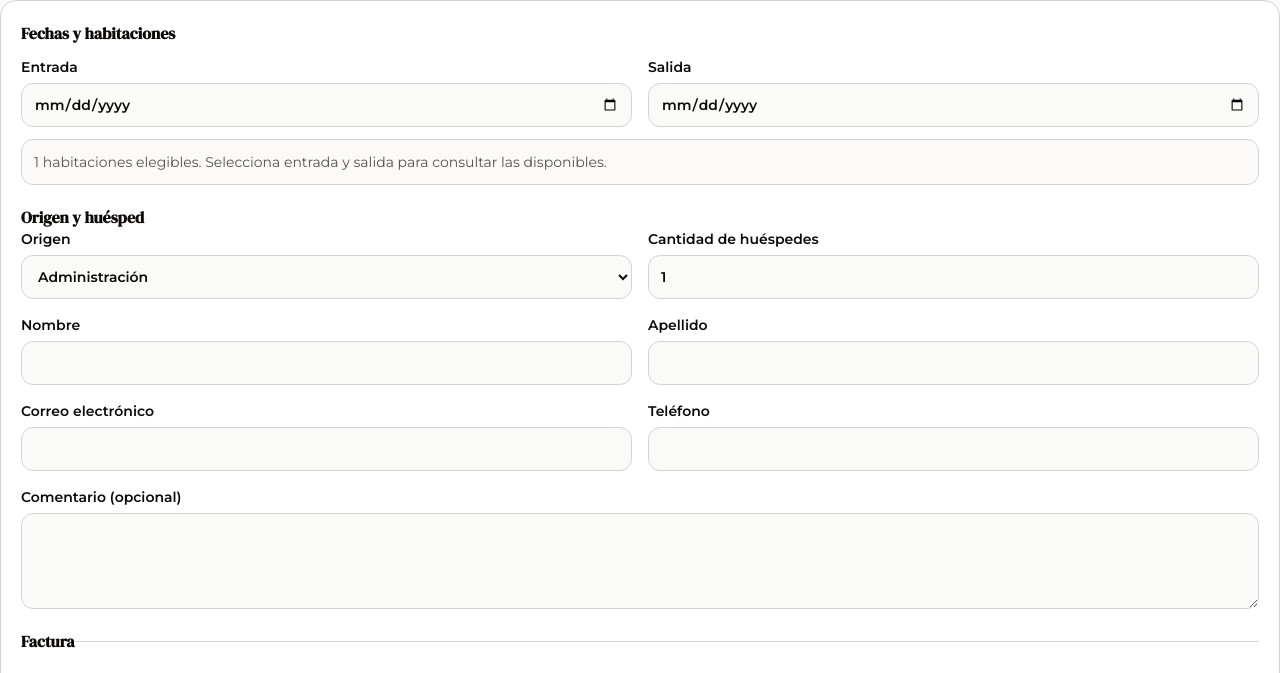
Test: nightly value for an external channel (task 7.1) › recalculates the displayed total from the hand-set value
The width and height of the screenshot is (1280, 673).
Type "2033-02-10" into the date field labelled "Entrada" at coordinates (326, 105), box 21,83 -> 632,127
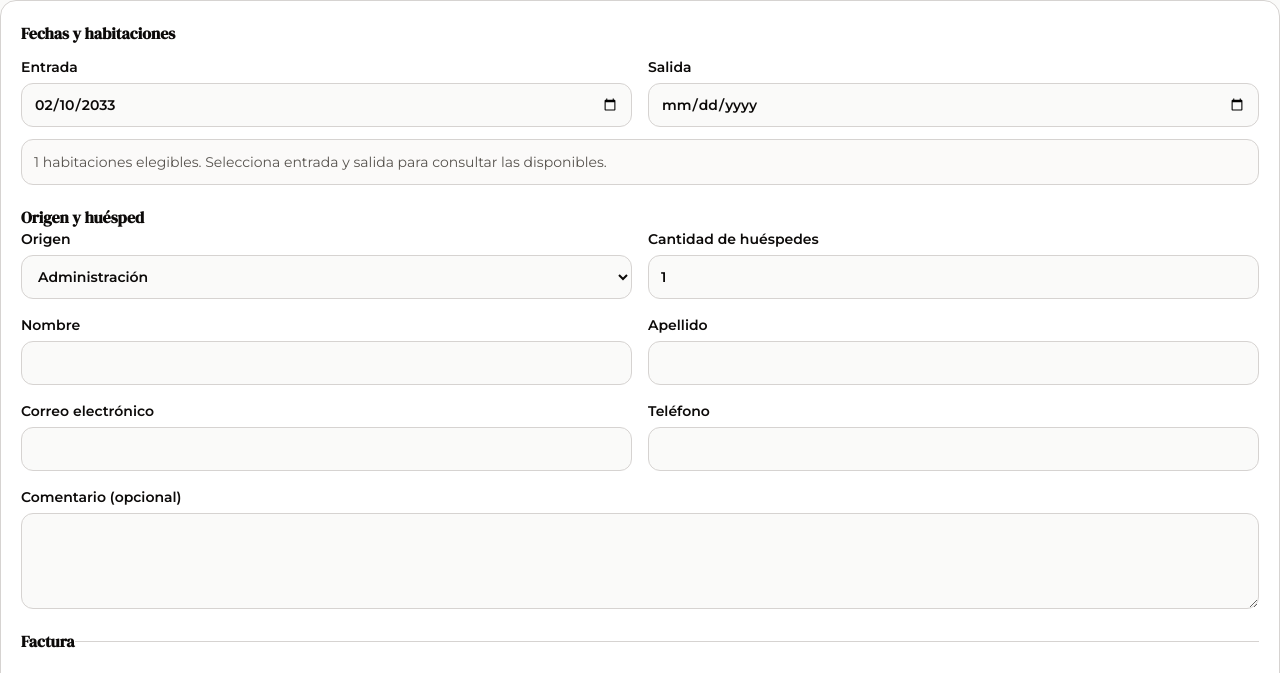
Type "2033-02-12" into the date field labelled "Salida" at coordinates (954, 105), box 648,83 -> 1259,127
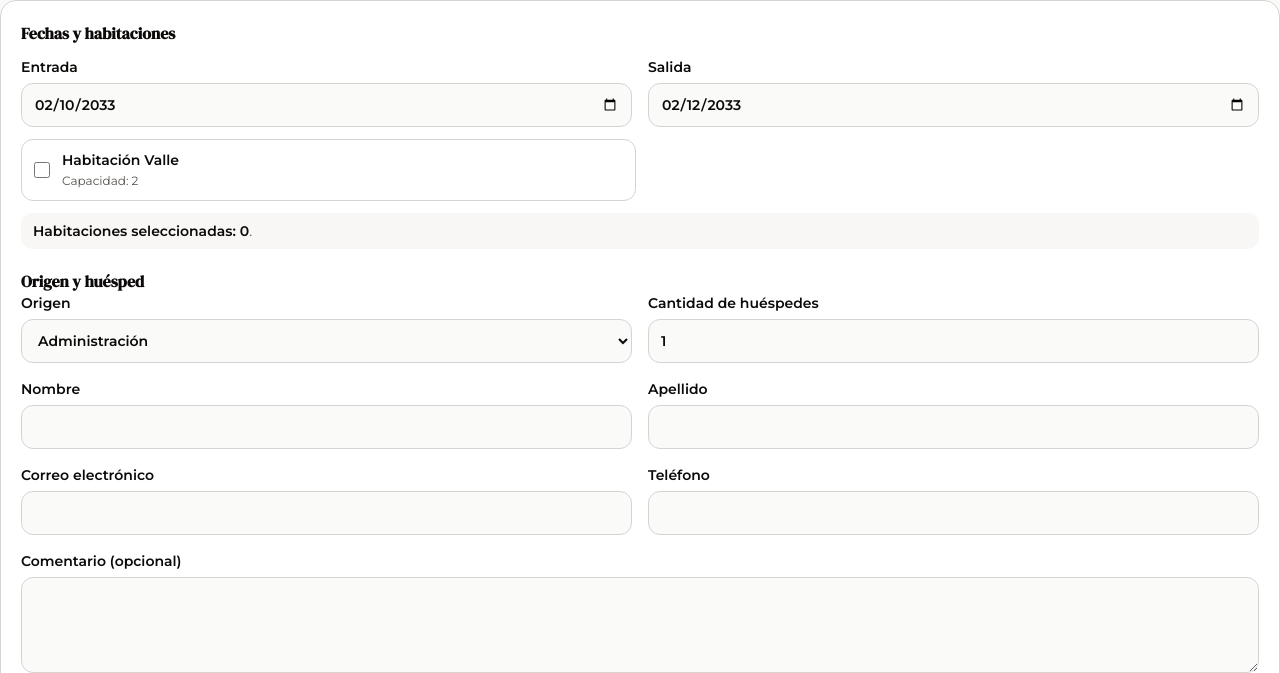
Expected: the checkbox labelled "Habitación Valle Capacidad: 2" is shown
Click the checkbox labelled "Habitación Valle Capacidad: 2" at coordinates (42, 170), box 34,162 -> 50,178
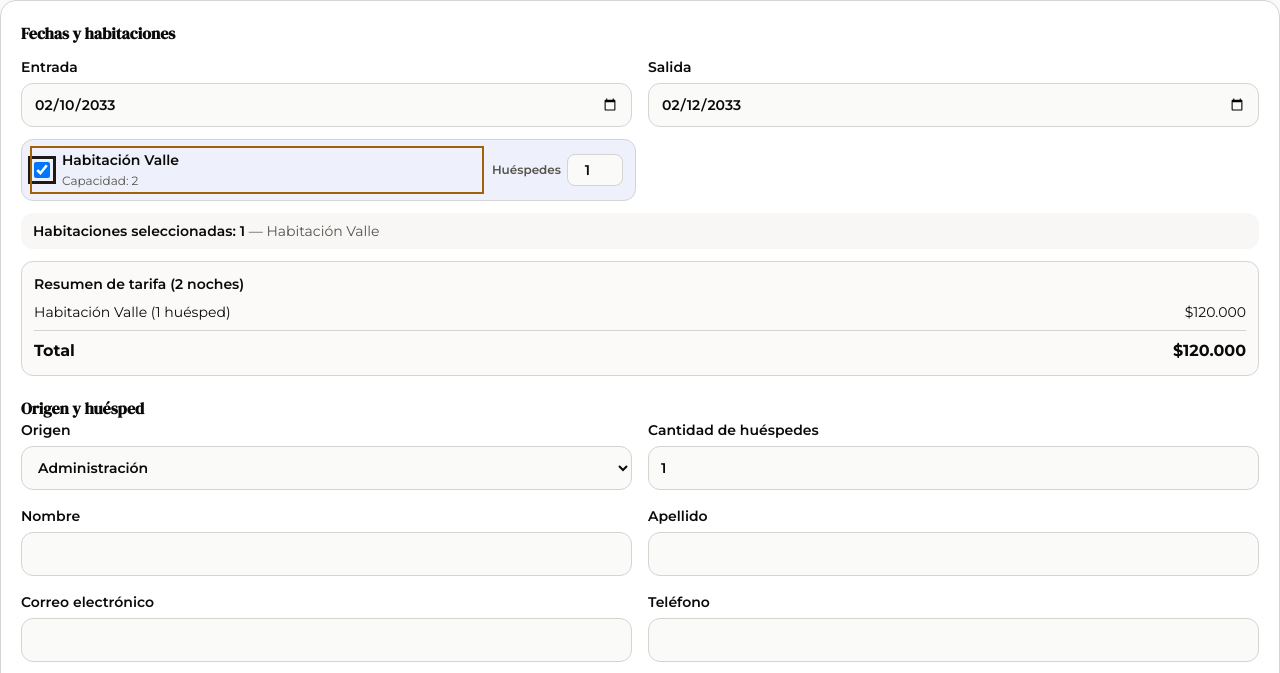
Select "Booking.com" in the dropdown labelled "Origen" at coordinates (326, 468), box 21,446 -> 632,490
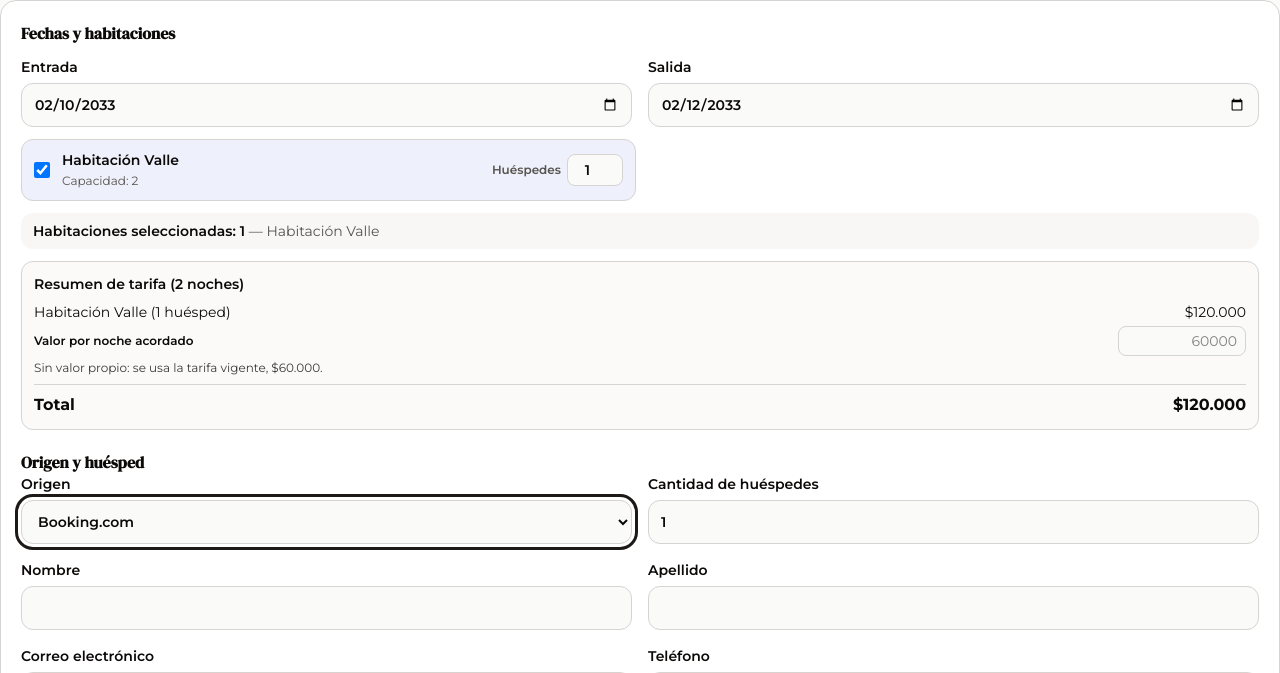
Type "42000" into the field labelled "Valor por noche acordado" at coordinates (1182, 341), box 1118,326 -> 1246,356
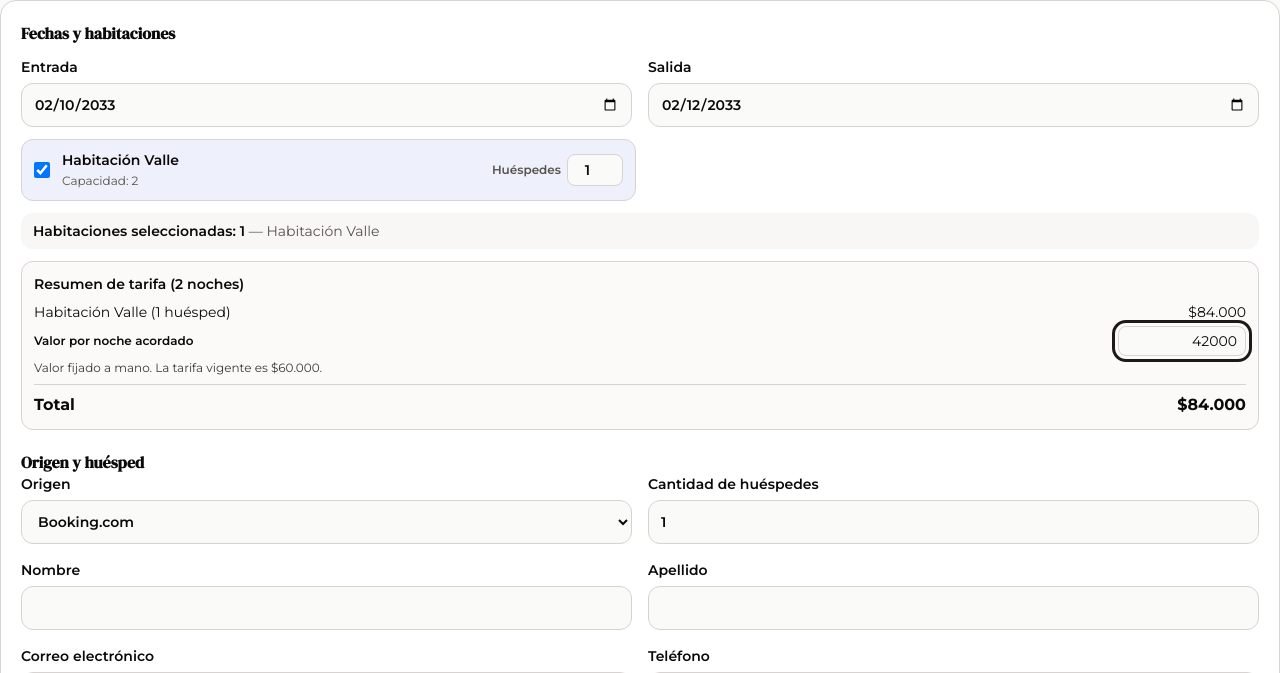
Expected: the text "Valor fijado a mano. La tarifa vigente es $60.000." is shown, 34,360 -> 322,375
